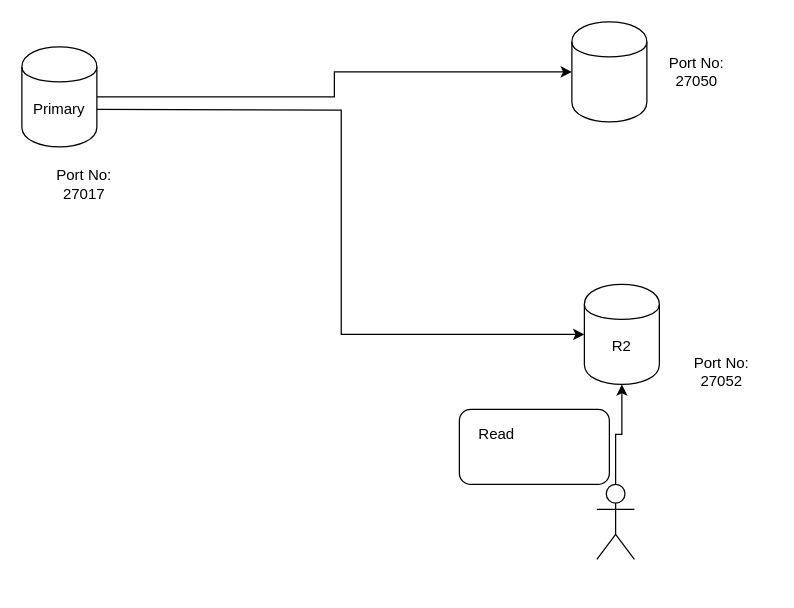
The diagram is 794 pixels wide and 608 high, and some of its shapes have lost their labels. The shapes that lost their labels are listed below. From the top down, each one's centre as x and y in pixels, then its label:
At (609,71): "R1".
At (615,521): "Actor".
